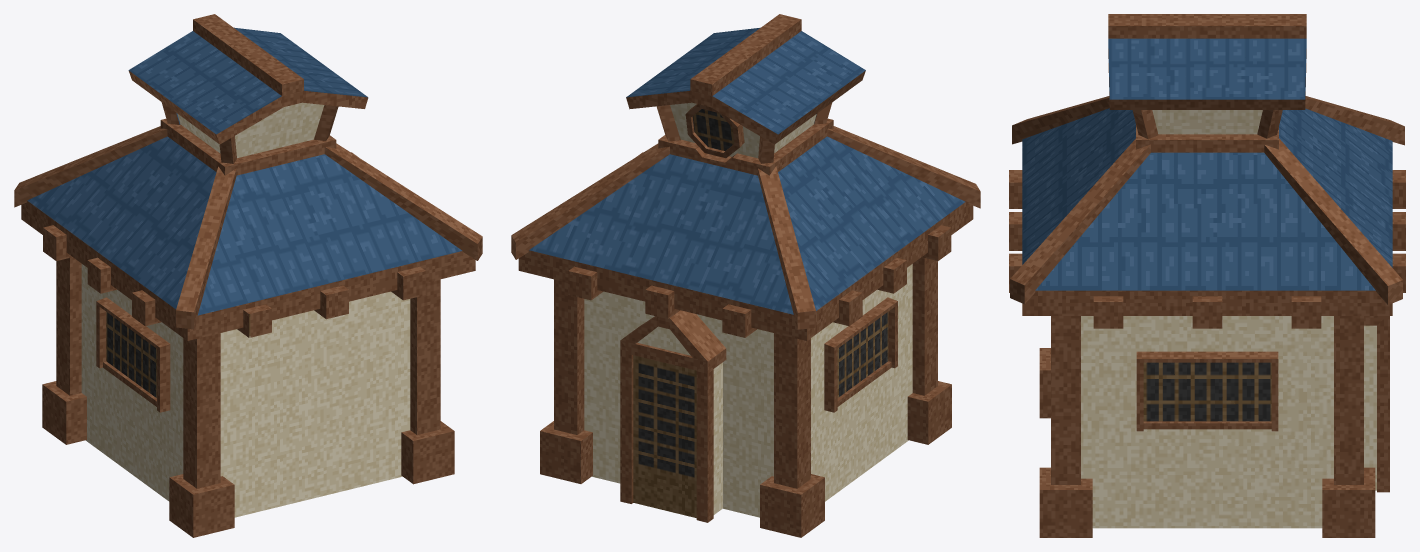
File: CasaModeloAJapon.fbx
3 renders of one model, left to right at view 1: azimuth 30°, elevation 25°; view 2: azimuth 150°, elevation 25°; view 3: azimuth 270°, elevation 25°, orthographic. The views are drawn at different scales.
Visible parts, largest first — view 1: CasaModeloA; view 2: CasaModeloA; view 3: CasaModeloA.
Part boxes in pixels (x1,y1,x2,y2): CasaModeloA: (14,14,482,537); CasaModeloA: (511,14,980,537); CasaModeloA: (1009,14,1405,537).
Bounding box in the file's own units: 2.12 × 2.12 × 2.65.
Materials: 1 (1 with a texture image).
